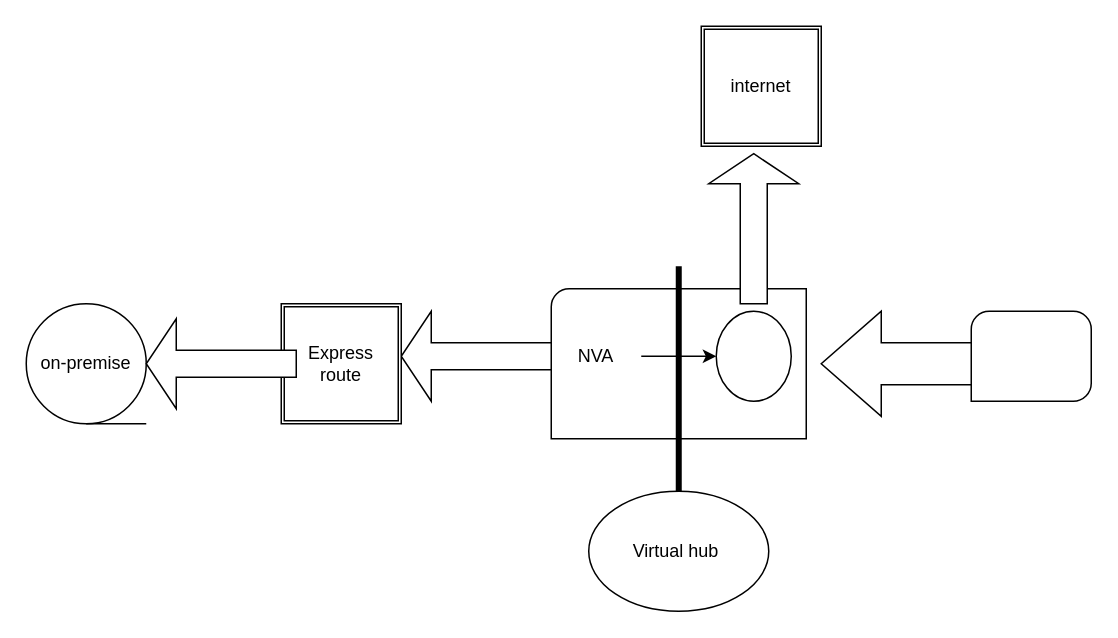
This 1118x638 diagram has some shape labels left out. Here are the shapes that lost their labels. From the top down, the centre of each, then its label:
point 753,355: Azure F irewall
point 1030,355: vm
